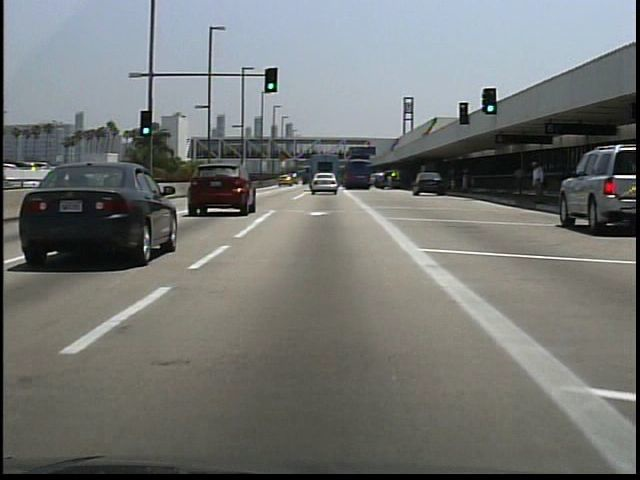person: (528, 157, 548, 208), (508, 155, 529, 203)
